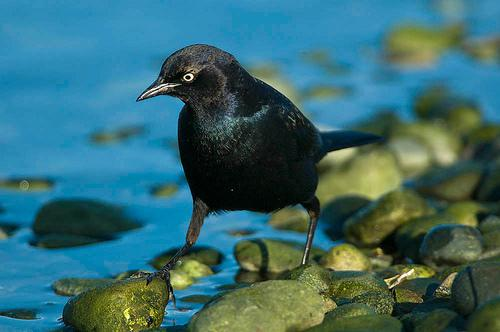009.Brewer_Blackbird: (136, 42, 384, 286)
